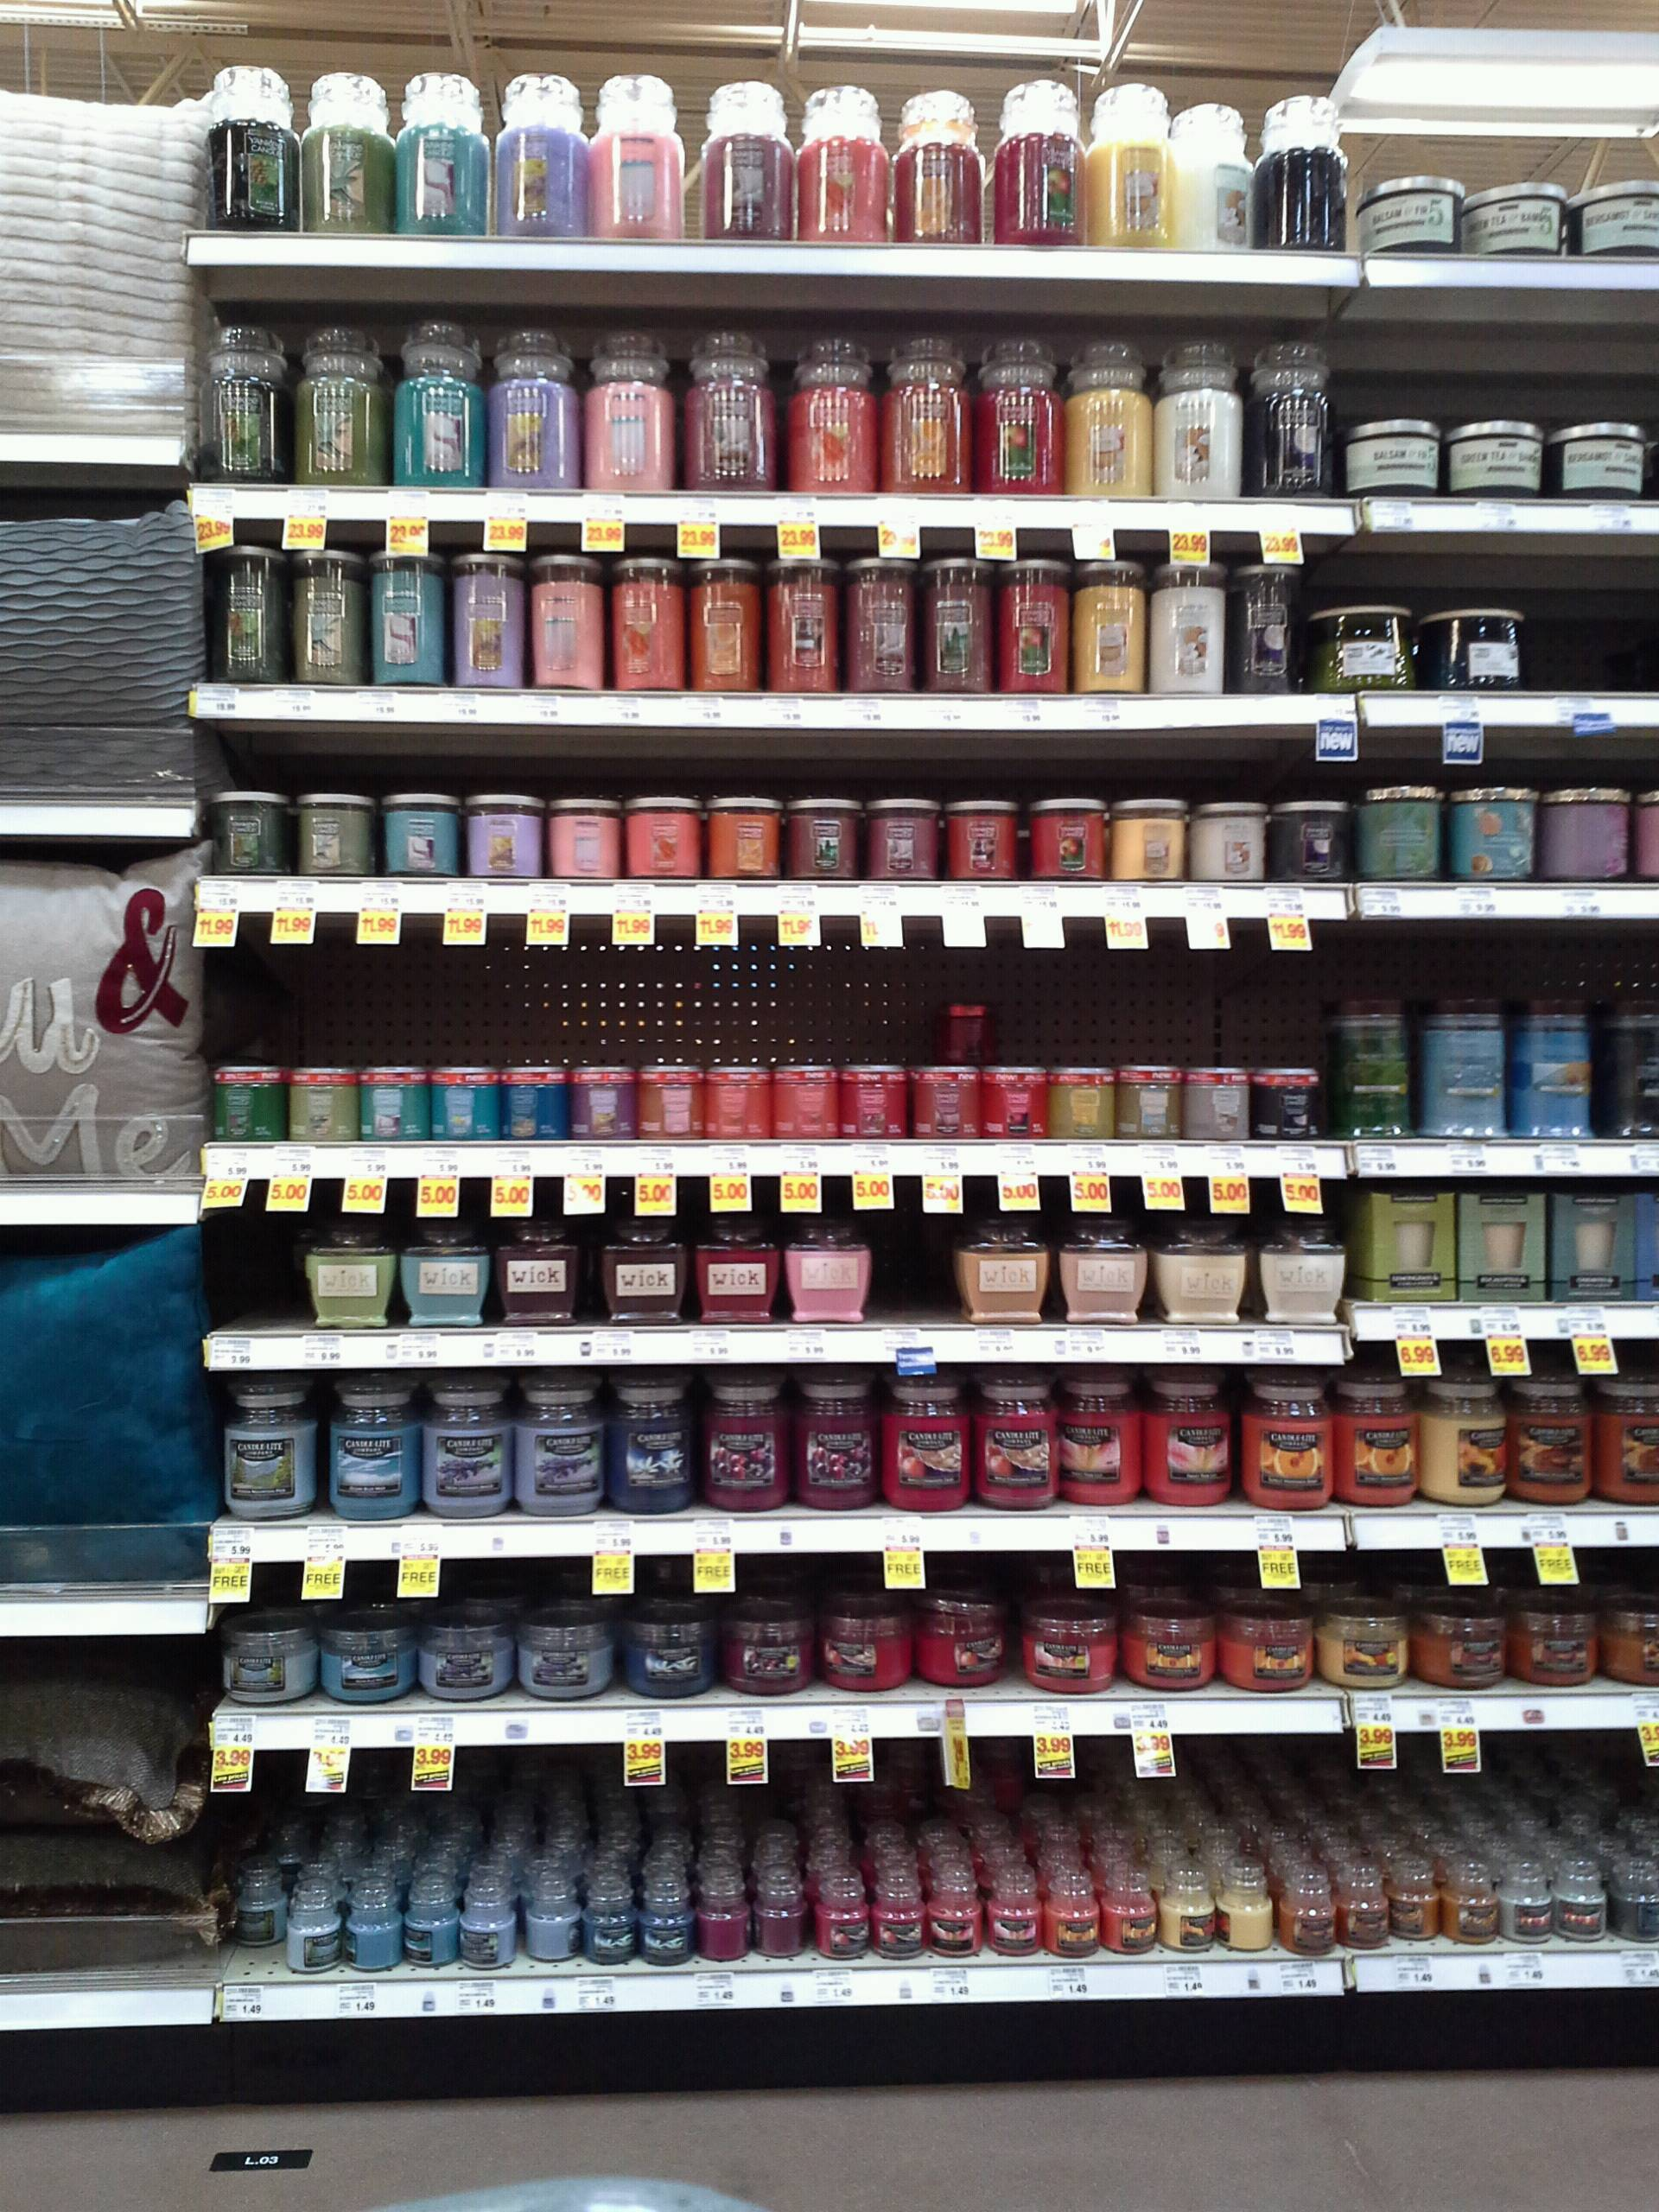Out-of-stock: (202, 1228, 310, 1336), (871, 1223, 962, 1327)
